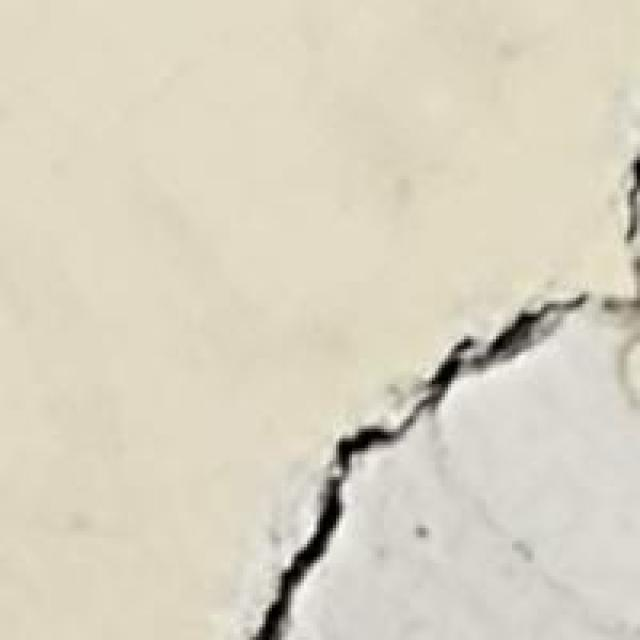crack: (224, 266, 637, 636)
